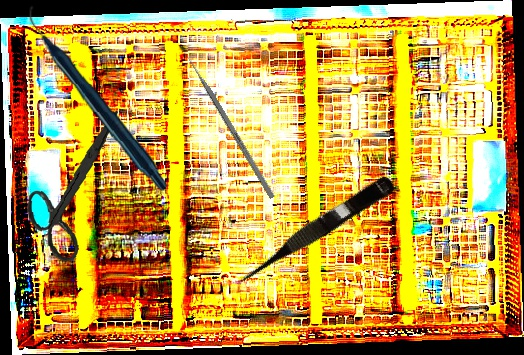Handpiece: (28, 0, 168, 196)
Iris Scissors: (18, 110, 132, 265)
Micro Scissor: (225, 169, 399, 293)
Pusher: (180, 46, 276, 200)
